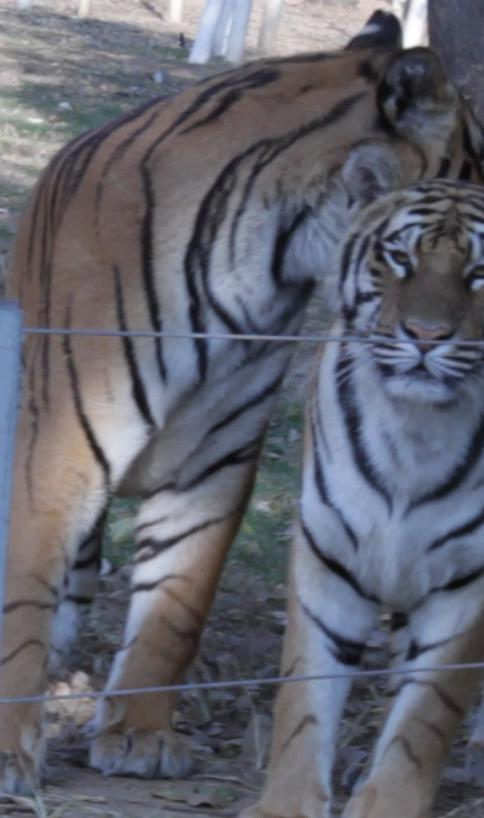tiger: (0, 11, 436, 776), (282, 178, 483, 817), (243, 678, 349, 817), (386, 52, 457, 175), (403, 402, 406, 414)
